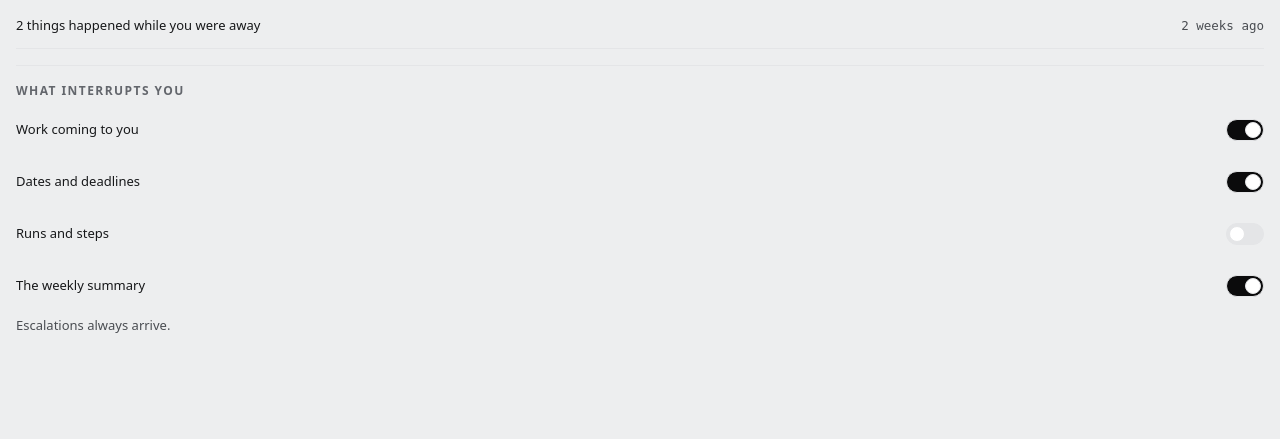
Test: the inbox › expands a digest where it stands, opening nothing
Expected: the text "A run finished" is not shown
What coordinates should you click on to do the following:
click the text "2 things happened while you were away"
I would click on:
 (138, 26)
Its box is [16,16,260,36].
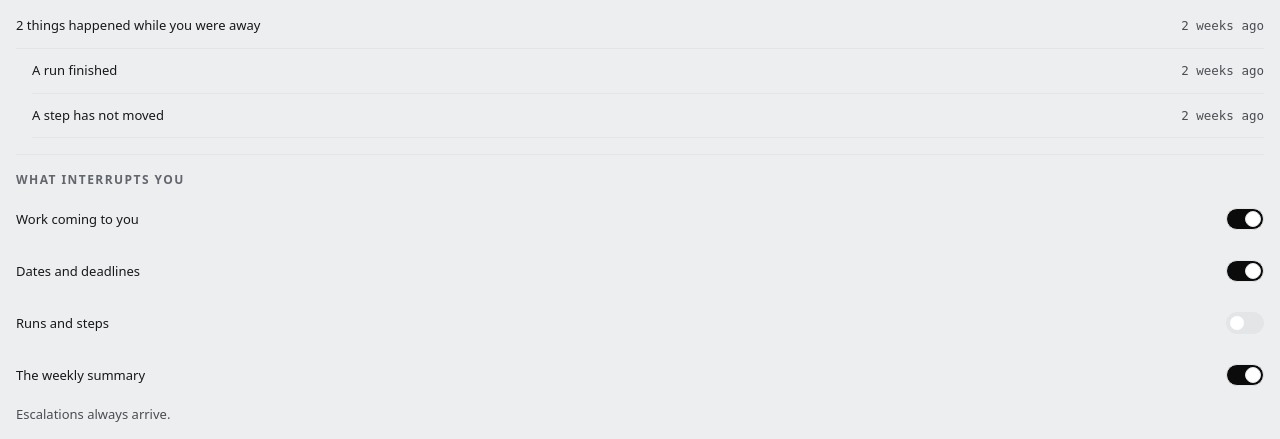
Result: the text "A run finished" is shown at [32,61,117,80]
Result: the text "A step has not moved" is shown at [32,106,164,125]
